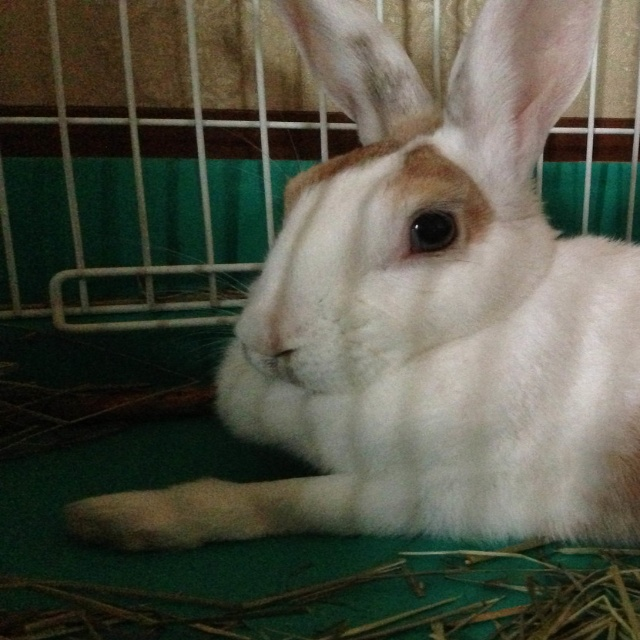Rabbit: (61, 0, 640, 547)
